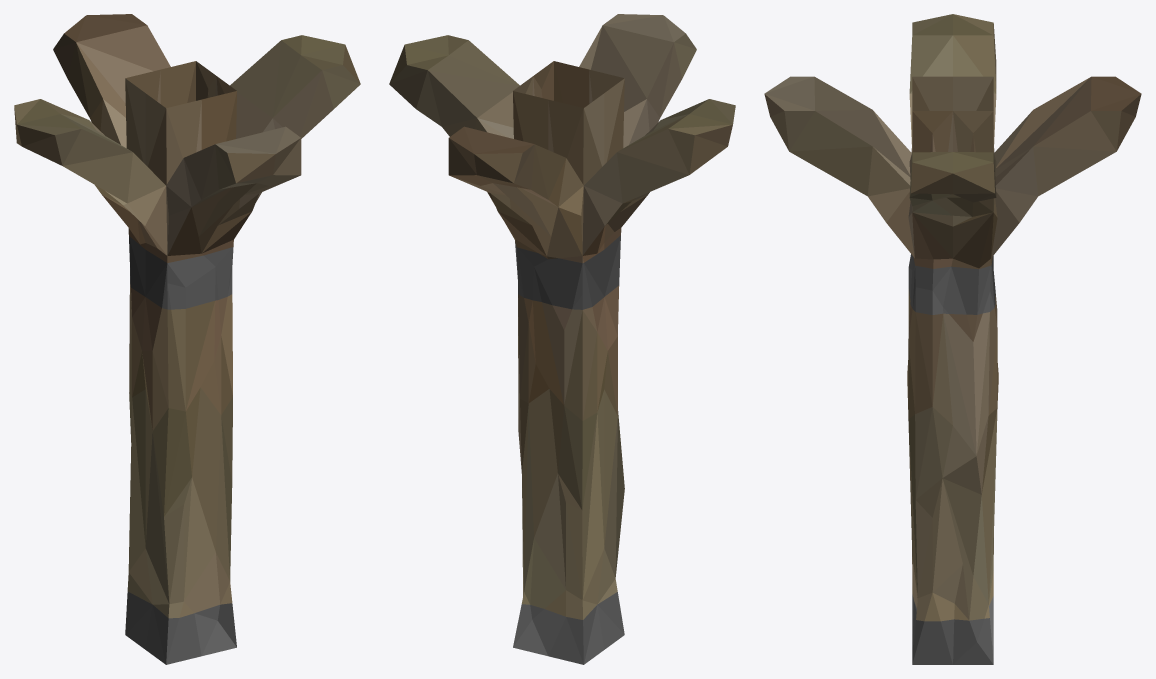
The model's file is Wall_UG-PostCenter.fbx.
3 views of the same model, side by side, from view 1: azimuth 30°, elevation 25°; view 2: azimuth 150°, elevation 25°; view 3: azimuth 270°, elevation 25° (orthographic).
Parts seen in each view (by area): view 1: Wall_UG-PostCenter; view 2: Wall_UG-PostCenter; view 3: Wall_UG-PostCenter.
Boxes of the visible parts, <box> form: Wall_UG-PostCenter: <box>14,14,360,664</box>; Wall_UG-PostCenter: <box>389,14,735,664</box>; Wall_UG-PostCenter: <box>764,14,1141,664</box>.
Bounding box in the file's own units: 231 × 375 × 231.
